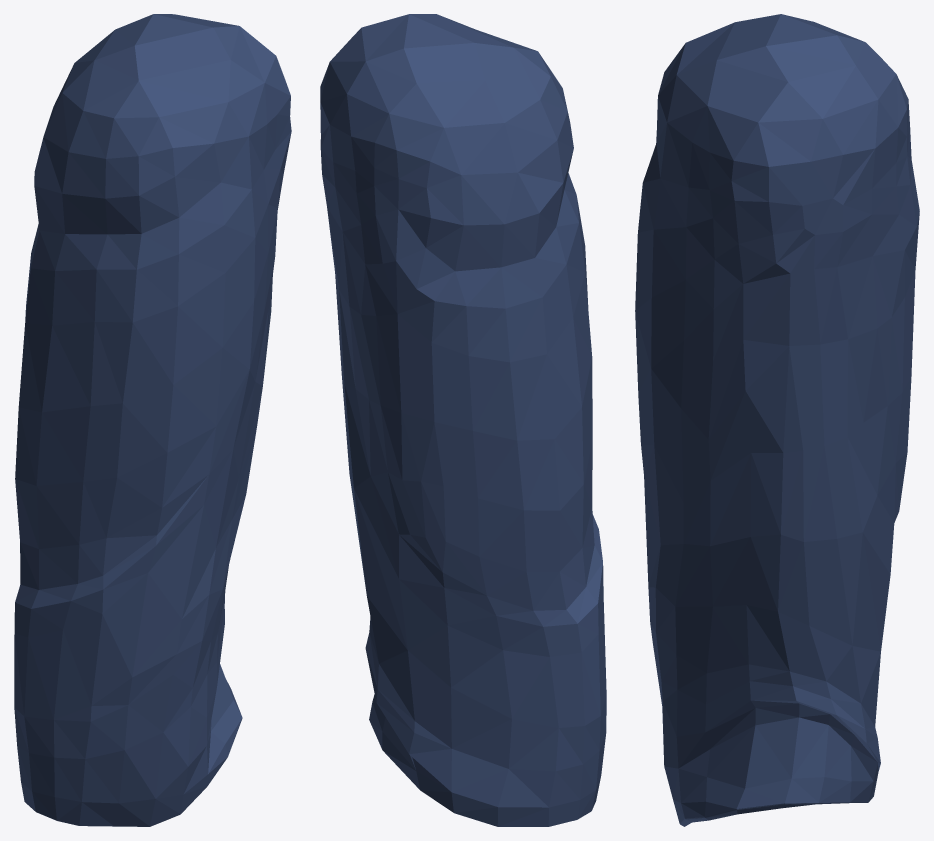
File: RShinLink.dae
3 renders of one model, left to right at view 1: azimuth 30°, elevation 25°; view 2: azimuth 150°, elevation 25°; view 3: azimuth 270°, elevation 25°, orthographic. The views are drawn at different scales.
Visible parts, largest first — view 1: ShapeIndexedFaceSet; view 2: ShapeIndexedFaceSet; view 3: ShapeIndexedFaceSet.
Boxes of the visible parts, x1,y1,x2,y2 form: ShapeIndexedFaceSet: (14, 14, 291, 826); ShapeIndexedFaceSet: (320, 14, 606, 826); ShapeIndexedFaceSet: (635, 14, 919, 826).
Size of the model in its own units: 0.1742 by 0.1482 by 0.4751.
